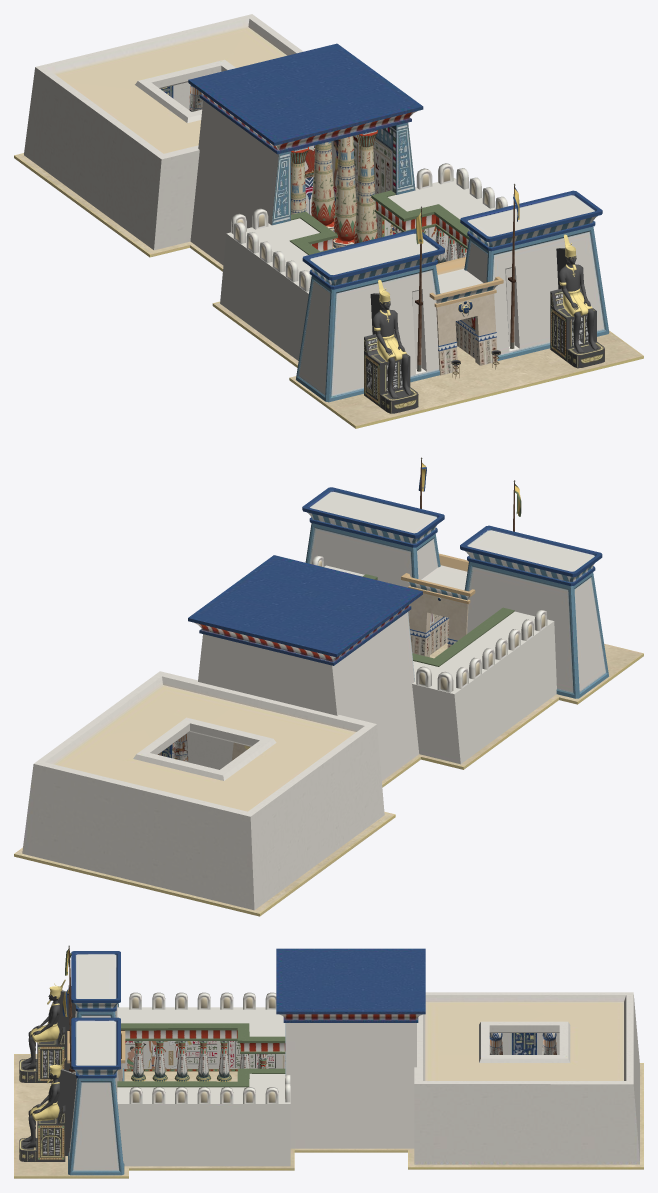
File: templo-cgbang.glb
3 renders of one model, top to bottom at view 1: azimuth 30°, elevation 25°; view 2: azimuth 150°, elevation 25°; view 3: azimuth 270°, elevation 25°, orthographic. The views are drawn at different scales.
Visible parts, largest first — view 1: sala_santuario_ext_Sala_Santuario_0, pilono_izq_Sala_Pilonos_0, sala_hipostila_sup_Sala_Hipostila_0, sala_hipostila_inf_Sala_Hipostila_0, suelo_templo_Suelo_0, sala_hipetra_izq_Sala_Muralla_0, puerta_principal_Sala_Pilonos_0, sala_hipetra_detalle_00_izq_Sala_Muralla_0, pilono_estatua_11_Suelo_0, pilono_estatua_023_Suelo_0, sala_hipostila_columna_014_Columnas_0, sala_hipostila_columna_02_Columnas_0 (+4 smaller); view 2: sala_santuario_ext_Sala_Santuario_0, pilono_izq_Sala_Pilonos_0, sala_hipostila_sup_Sala_Hipostila_0, sala_hipostila_inf_Sala_Hipostila_0, sala_hipetra_izq_Sala_Muralla_0, suelo_templo_Suelo_0, puerta_principal_Sala_Pilonos_0, sala_santuario_int_Sala_Santuario_0, sala_hipetra_detalle_00_izq_Sala_Muralla_0; view 3: sala_santuario_ext_Sala_Santuario_0, sala_hipetra_izq_Sala_Muralla_0, sala_hipostila_inf_Sala_Hipostila_0, sala_hipostila_sup_Sala_Hipostila_0, pilono_izq_Sala_Pilonos_0, suelo_templo_Suelo_0, sala_hipetra_detalle_00_izq_Sala_Muralla_0, pilono_estatua_023_Suelo_0, pilono_estatua_11_Suelo_0, sala_santuario_int_Sala_Santuario_0, pilono_estatua_034_Sala_Pilonos_0, pilono_estatua_044_Escultura_Faraon_0 (+4 smaller).
Part boxes in pixels (box(x1,y1,x2,y2)): sala_santuario_ext_Sala_Santuario_0: box(24, 14, 303, 250); pilono_izq_Sala_Pilonos_0: box(296, 190, 609, 402); sala_hipostila_sup_Sala_Hipostila_0: box(188, 43, 423, 154); sala_hipostila_inf_Sala_Hipostila_0: box(190, 100, 415, 265); suelo_templo_Suelo_0: box(14, 153, 643, 428); sala_hipetra_izq_Sala_Muralla_0: box(220, 178, 495, 360); puerta_principal_Sala_Pilonos_0: box(429, 257, 503, 375); sala_hipetra_detalle_00_izq_Sala_Muralla_0: box(289, 190, 469, 254); pilono_estatua_11_Suelo_0: box(364, 330, 418, 413); pilono_estatua_023_Suelo_0: box(550, 285, 604, 368); sala_hipostila_columna_014_Columnas_0: box(334, 136, 356, 241); sala_hipostila_columna_02_Columnas_0: box(354, 145, 377, 243); sala_santuario_ext_Sala_Santuario_0: box(22, 671, 384, 910); pilono_izq_Sala_Pilonos_0: box(302, 487, 608, 698); sala_hipostila_sup_Sala_Hipostila_0: box(188, 555, 422, 665); sala_hipostila_inf_Sala_Hipostila_0: box(198, 612, 419, 780); sala_hipetra_izq_Sala_Muralla_0: box(324, 565, 556, 764); suelo_templo_Suelo_0: box(14, 643, 643, 916); puerta_principal_Sala_Pilonos_0: box(401, 553, 475, 657); sala_santuario_int_Sala_Santuario_0: box(161, 731, 233, 769); sala_hipetra_detalle_00_izq_Sala_Muralla_0: box(362, 574, 514, 666); sala_santuario_ext_Sala_Santuario_0: box(414, 992, 639, 1164); sala_hipetra_izq_Sala_Muralla_0: box(117, 1007, 290, 1166); sala_hipostila_inf_Sala_Hipostila_0: box(285, 1023, 416, 1148); sala_hipostila_sup_Sala_Hipostila_0: box(276, 948, 425, 1022); pilono_izq_Sala_Pilonos_0: box(68, 951, 124, 1175); suelo_templo_Suelo_0: box(14, 1054, 643, 1178); sala_hipetra_detalle_00_izq_Sala_Muralla_0: box(117, 1023, 285, 1087); pilono_estatua_023_Suelo_0: box(19, 1105, 65, 1161); pilono_estatua_11_Suelo_0: box(19, 1027, 65, 1082); sala_santuario_int_Sala_Santuario_0: box(502, 1033, 559, 1054); pilono_estatua_034_Sala_Pilonos_0: box(57, 1069, 76, 1155); pilono_estatua_044_Escultura_Faraon_0: box(22, 1072, 59, 1148).
Bounding box in the file's own units: 14.32 × 8.33 × 31.23.
Materials: 9 (9 with a texture image).
